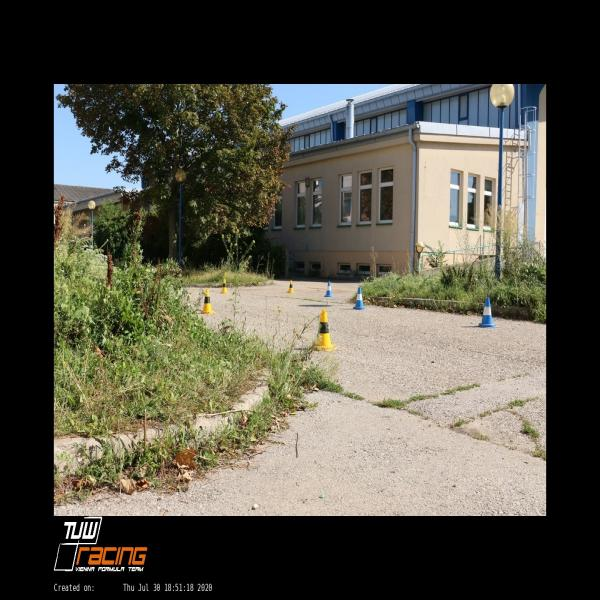blue_cone: (478, 298, 496, 327), (352, 288, 366, 310), (324, 281, 333, 297)
yellow_cone: (311, 310, 335, 351), (201, 289, 214, 314), (287, 280, 295, 294), (220, 279, 228, 293)
